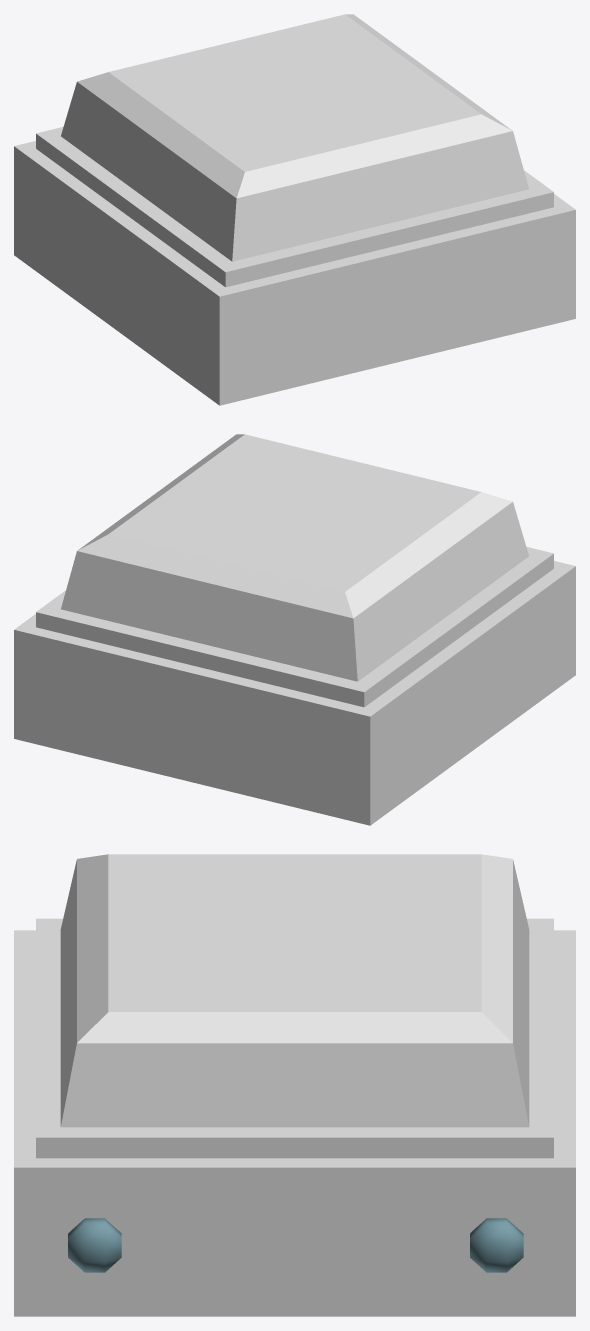
Rendered from Button_2.fbx.
3 views of the same model, one above another, from view 1: azimuth 30°, elevation 25°; view 2: azimuth 150°, elevation 25°; view 3: azimuth 270°, elevation 25° (orthographic). The views are drawn at different scales.
Parts seen in each view (by area): view 1: Cube, Cube.005; view 2: Cube, Cube.005; view 3: Cube.005, Cube.
Part boxes in pixels (<box>): Cube: <box>14,126,575,405</box>; Cube.005: <box>61,14,528,261</box>; Cube: <box>14,546,575,825</box>; Cube.005: <box>61,434,528,681</box>; Cube.005: <box>60,854,529,1127</box>; Cube: <box>14,918,575,1316</box>.
Size of the model in its own units: 209 by 104 by 200.
